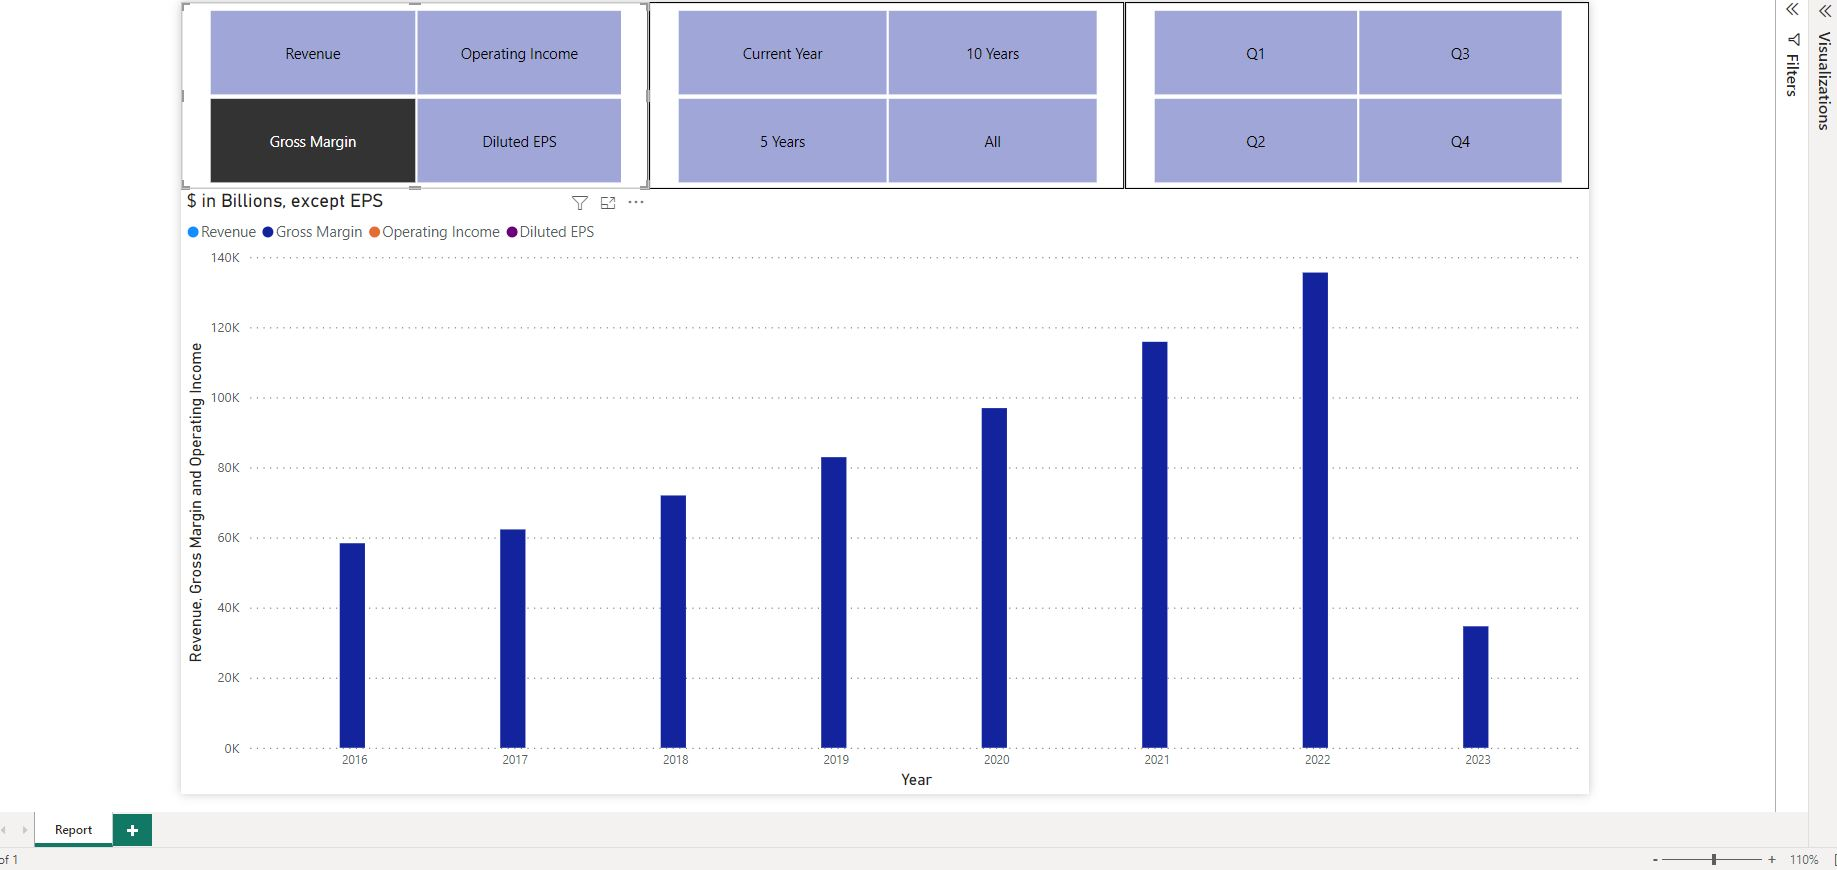

The dashboard page shown, as its layout file describes it:
{"tool":"powerbi","page":{"name":"Report","canvas":[1280,720],"ordinal":0},"visuals":[{"type":"lineClusteredColumnComboChart","title":"$ in Billions, except EPS","fields":{"Category":["PL Data.Year"],"Y":["SlicerData.Revenue","SlicerData.Gross Margin","SlicerData.Operating Income"],"Y2":["SlicerData.Diluted EPS"]},"box":[0,170,1279.1,550],"z":0},{"type":"slicer","fields":{"Values":["SlicerData.Label"]},"box":[0,0,425.5,170],"z":1000},{"type":"slicer","fields":{"Values":["SlicerYears.Label"]},"box":[425.5,0,431.8,170],"z":2000},{"type":"slicer","fields":{"Values":["PL Data.Qtr"]},"box":[858.2,0,421.8,170],"z":2001}]}

Visuals, with their boxes on the page's 1280x720 design canvas (x1, y1, x2, y2). These are canvas units, not pixel positions in the 1837x870 screenshot, which may show the page scaled, cropped or inside an application window:
"$ in Billions, except EPS" lineClusteredColumnComboChart: 0,170,1279,720
slicer - SlicerData.Label: 0,0,426,170
slicer - SlicerYears.Label: 426,0,857,170
slicer - PL Data.Qtr: 858,0,1280,170
